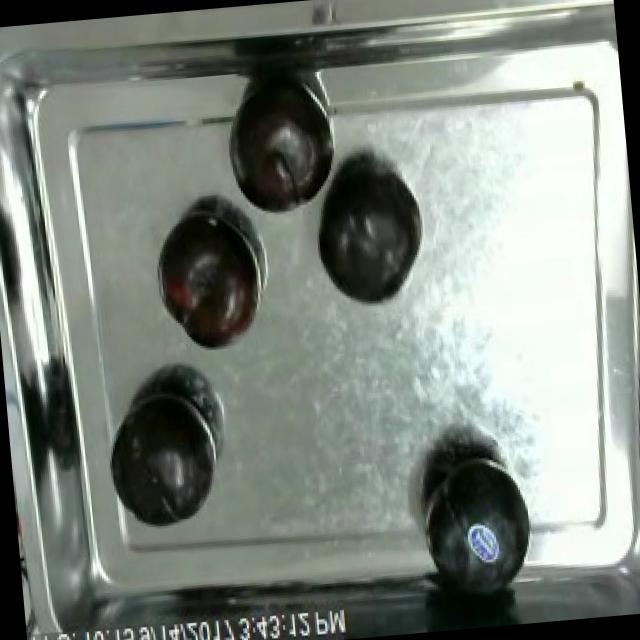Fruit: (410, 441, 546, 615), (306, 154, 428, 316), (101, 382, 228, 534), (148, 204, 267, 362), (225, 106, 332, 220)
